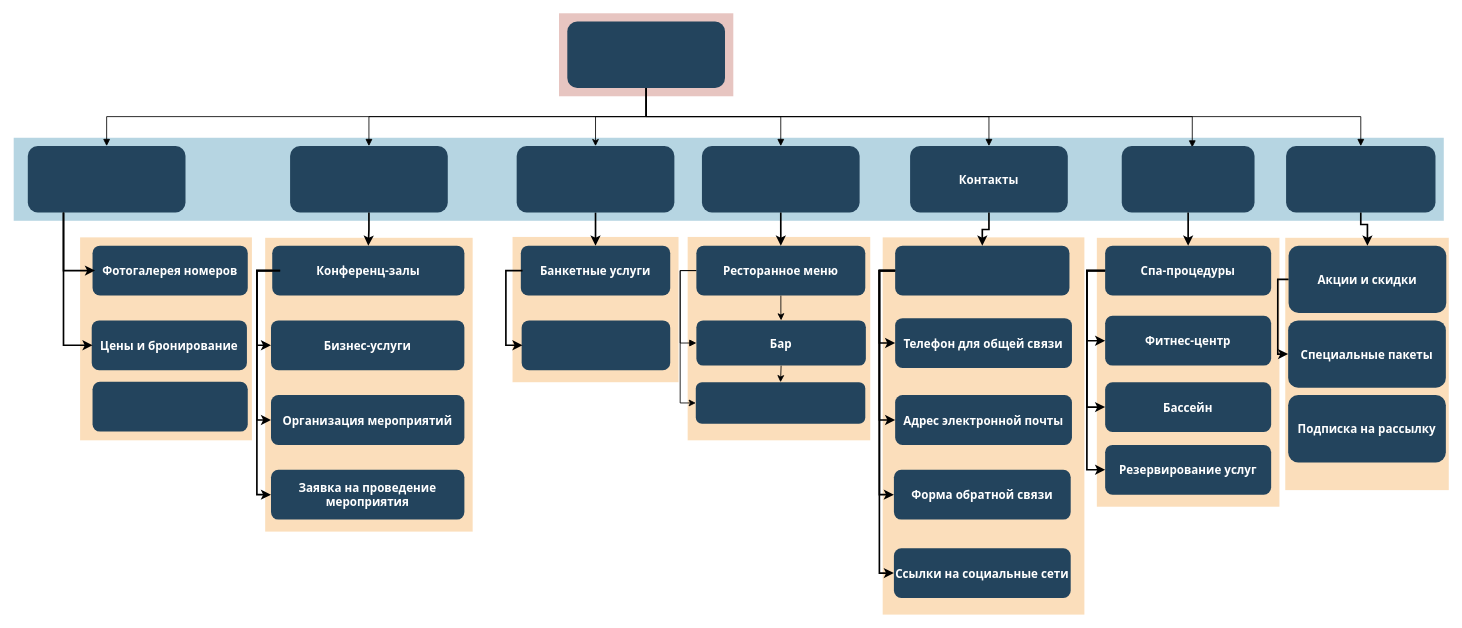
This 1462x628 diagram has some shape labels left out. The centre of each missing label's shape, as x and y in pixels:
"Адрес отеля" goes at point 982,270.
"Банкетный зал" goes at point 595,179.
"Главная страница" goes at point 646,54.
"Для бизнеса" goes at point 368,179.
"Заявка на банкет" goes at point 595,345.
"Зона SPA" goes at point 1187,179.
"Номера" goes at point 106,179.
"Резервирование столиков" goes at point 780,402.
"Ресторан" goes at point 780,179.
"Спецпредложения" goes at point 1360,179.
"Форма бронирования для выбранного номера" goes at point 169,406.
